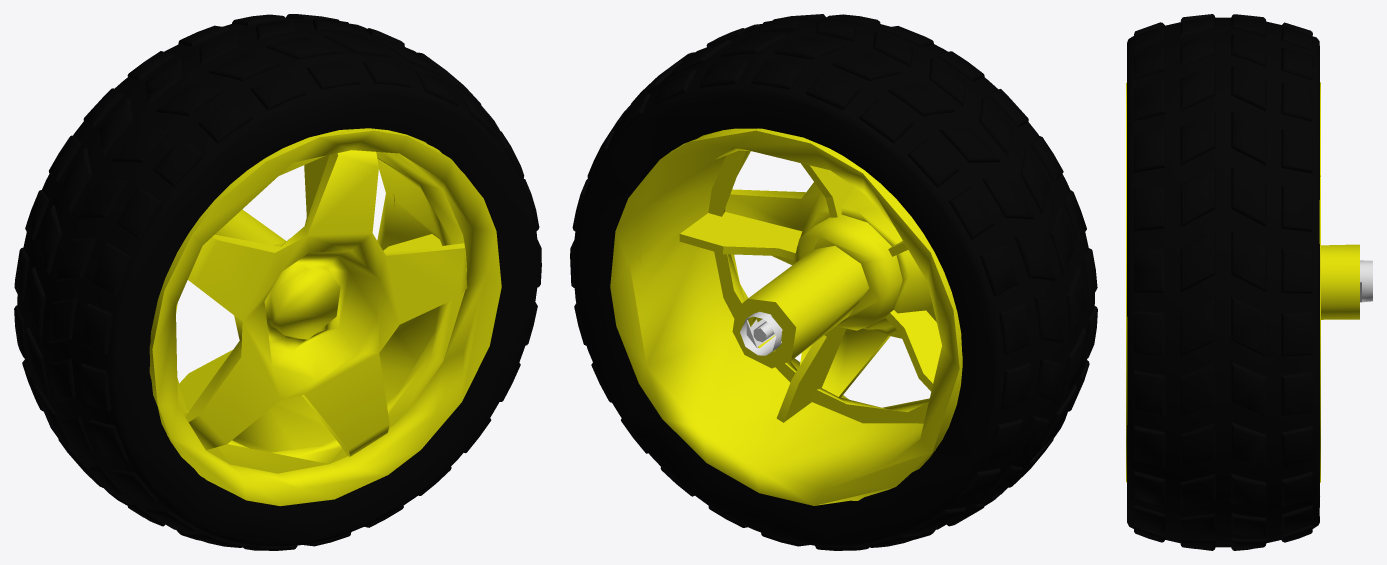
The model's file is rueda-65.glb.
3 views of the same model, side by side, from view 1: azimuth 30°, elevation 25°; view 2: azimuth 150°, elevation 25°; view 3: azimuth 270°, elevation 25° (orthographic).
Parts seen in each view (by area): view 1: Roda.004; view 2: Roda.004; view 3: Roda.004.
Part boxes in pixels (x1=…): Roda.004: x1=14, y1=14, x2=541, y2=550; Roda.004: x1=570, y1=14, x2=1097, y2=550; Roda.004: x1=1126, y1=14, x2=1372, y2=550.
Size of the model in its own units: 0.0661 by 0.066 by 0.0304.
